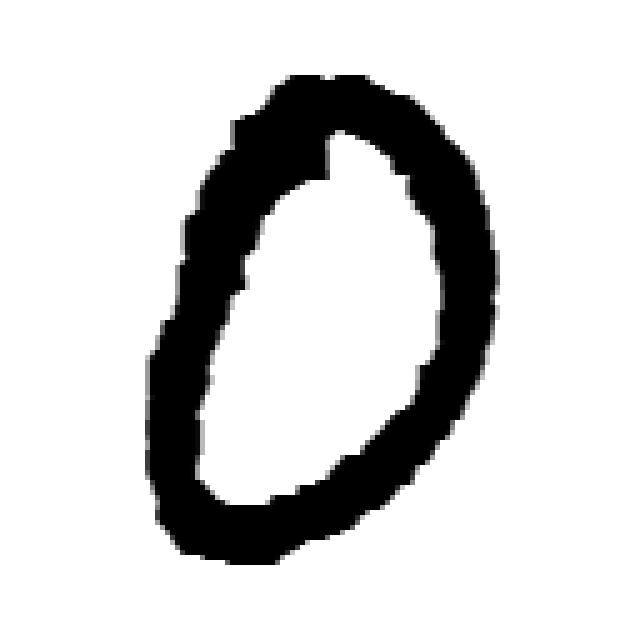O: (145, 75, 500, 570)
